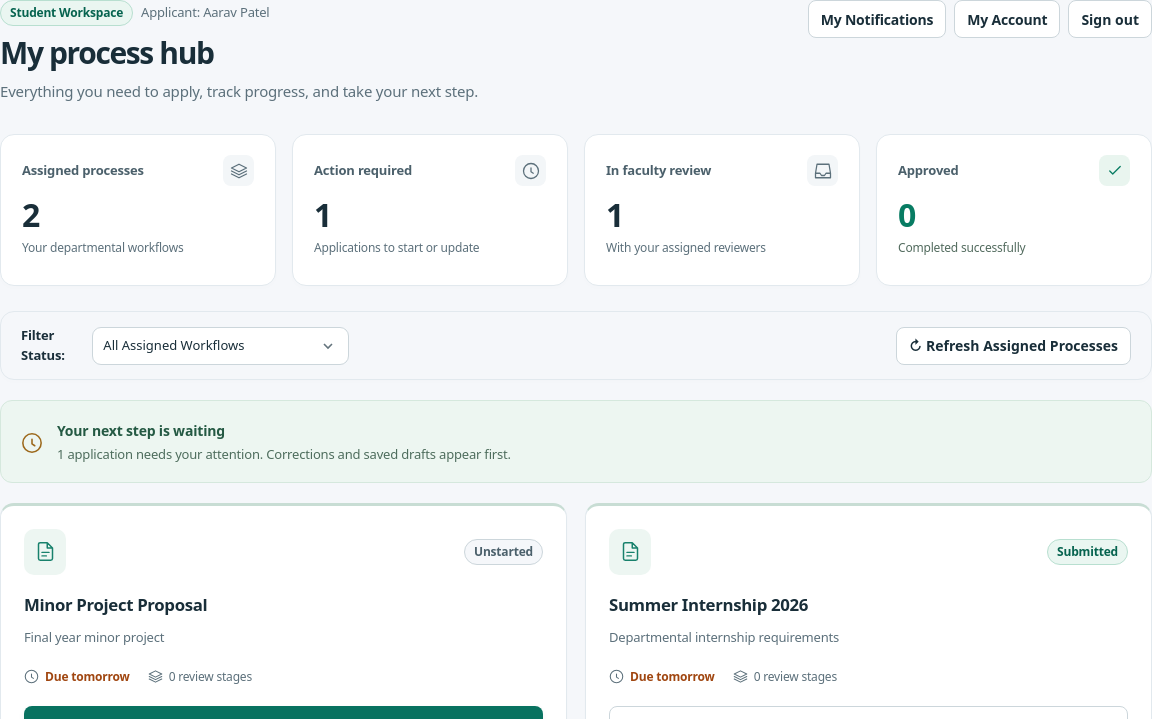
P-009 Student Process Hub Page and Elements (T-A11Y-P009, EL-059..EL-065) › filters processes by status (EL-061)
The width and height of the screenshot is (1152, 719).
Note: Filter to 'submitted'
Select "Submitted" in the dropdown with test id "EL-061": (221, 346) [92,327,349,365]
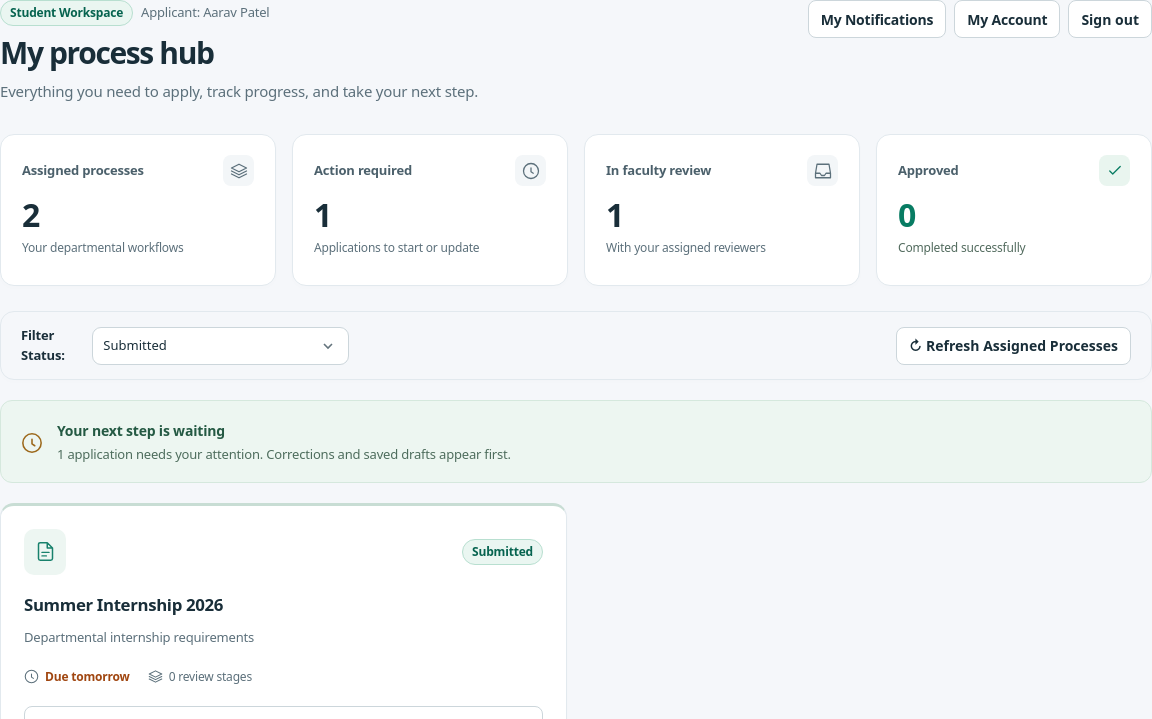
Expected: the heading "Summer Internship 2026" is shown, [24,593,223,616]
Result: the heading "Minor Project Proposal" is gone
